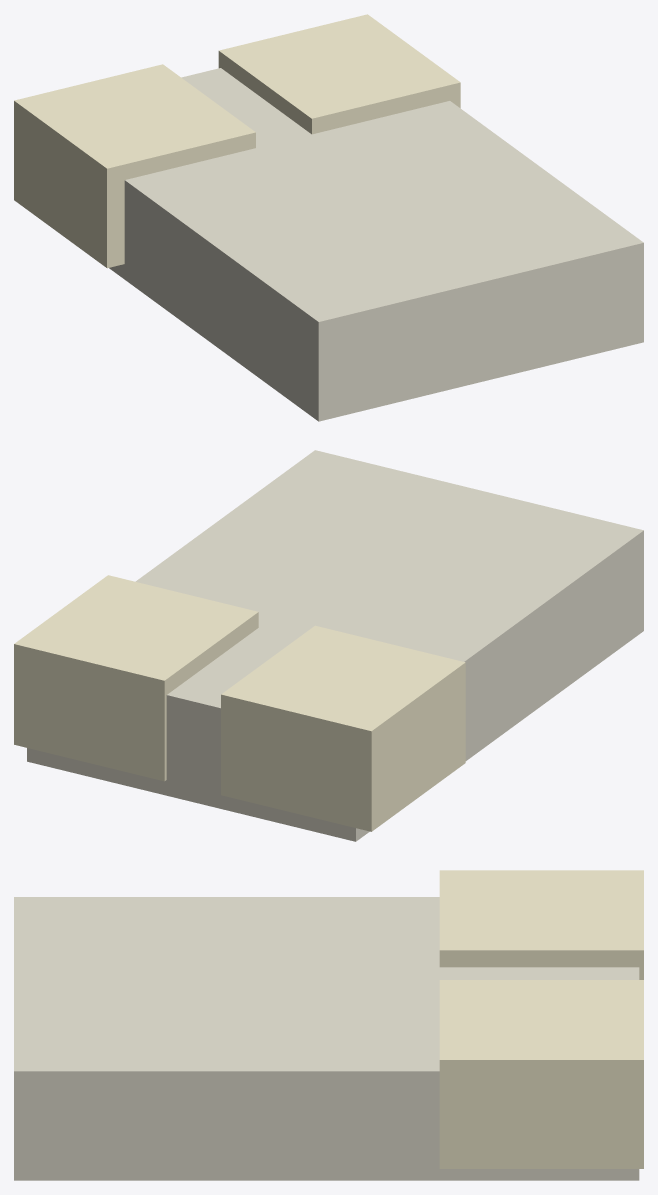
File: mouse.fbx
3 views of the same model, one above another, from view 1: azimuth 30°, elevation 25°; view 2: azimuth 150°, elevation 25°; view 3: azimuth 270°, elevation 25° (orthographic). The views are drawn at different scales.
Visible parts, largest first — view 1: Cube_8; view 2: Cube_8; view 3: Cube_8.
Boxes of the visible parts, bbox=[...] form: Cube_8: bbox=[14, 14, 643, 421]; Cube_8: bbox=[14, 450, 643, 841]; Cube_8: bbox=[14, 870, 643, 1180].
Bounding box in the file's own units: 4.12 × 1.28 × 5.79.
